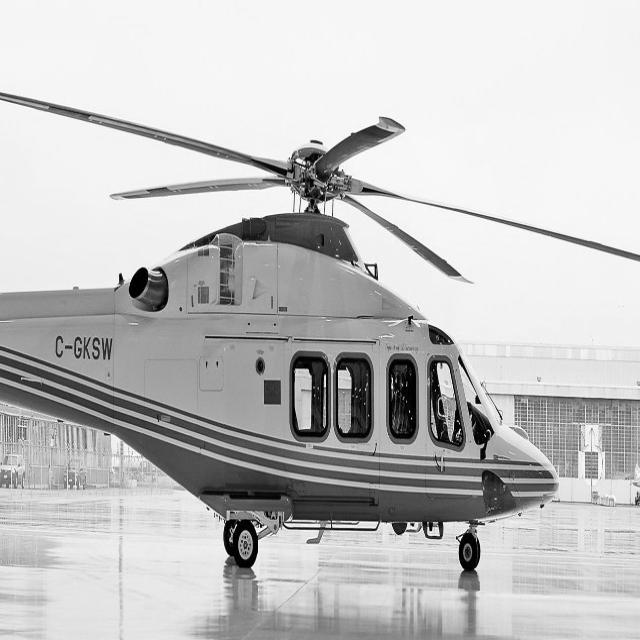helicopter: (1, 25, 640, 573)
